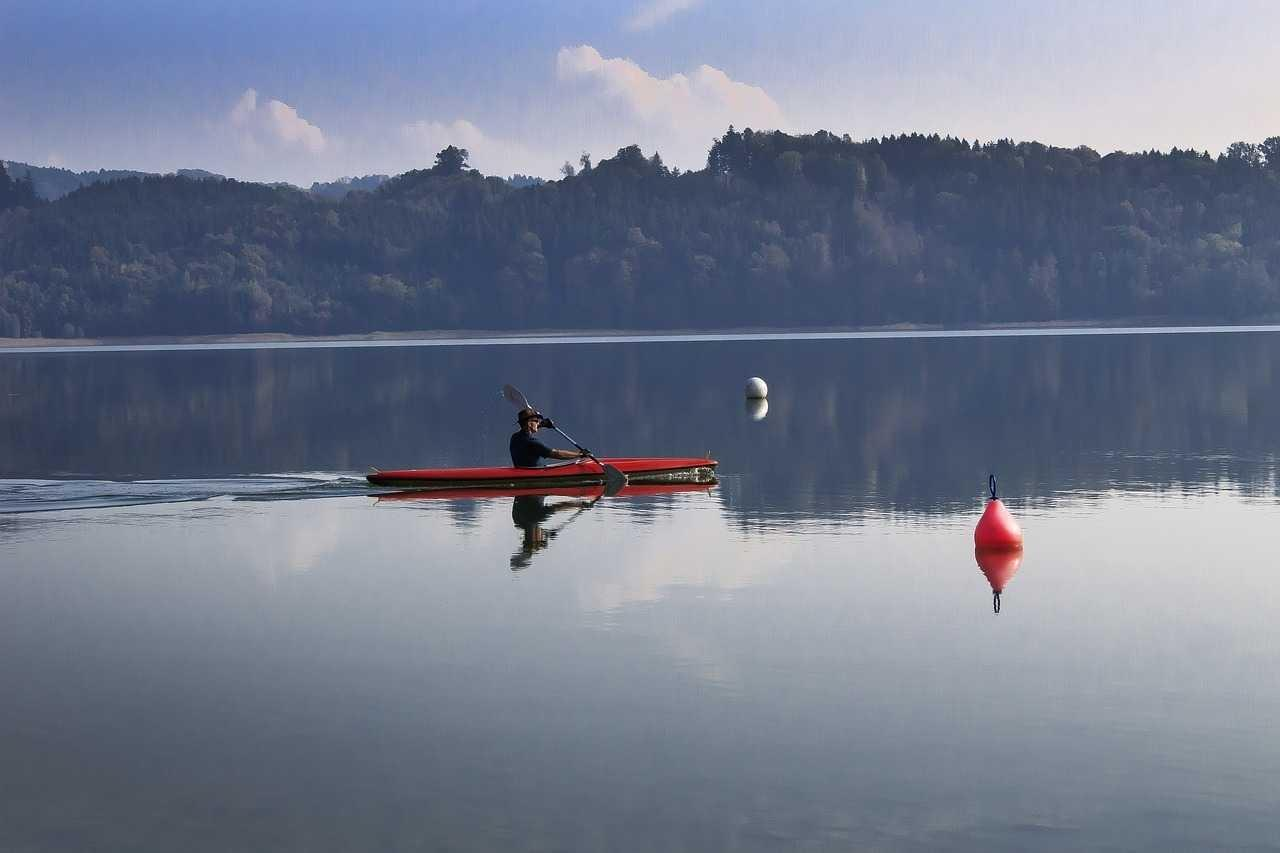kayak: (364, 459, 729, 496)
